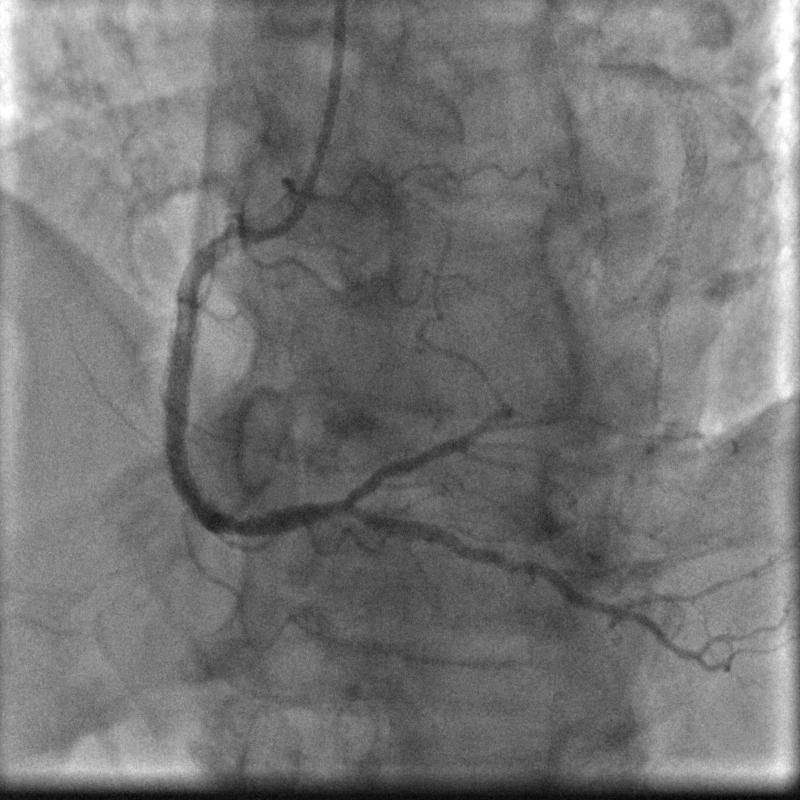Stenosis: (201, 228, 243, 262)
